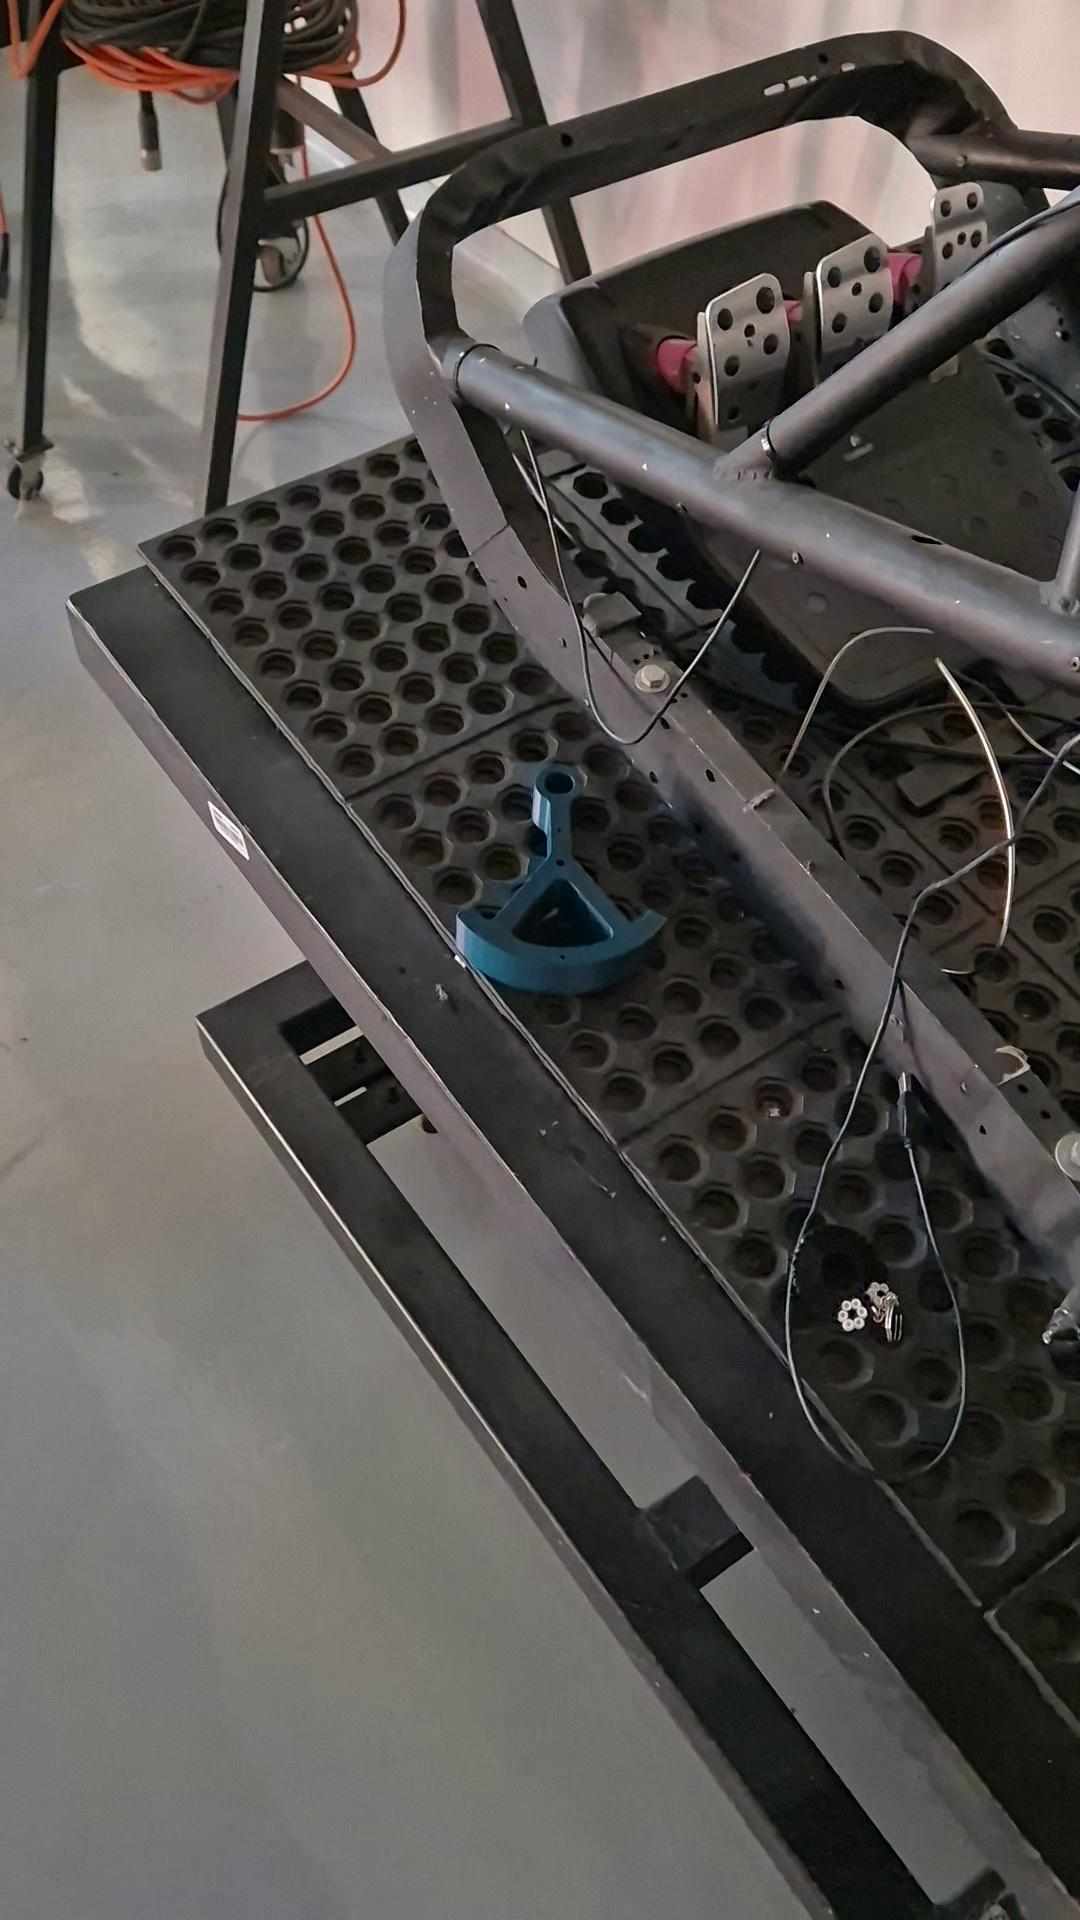Paddles: (454, 764, 670, 996)
